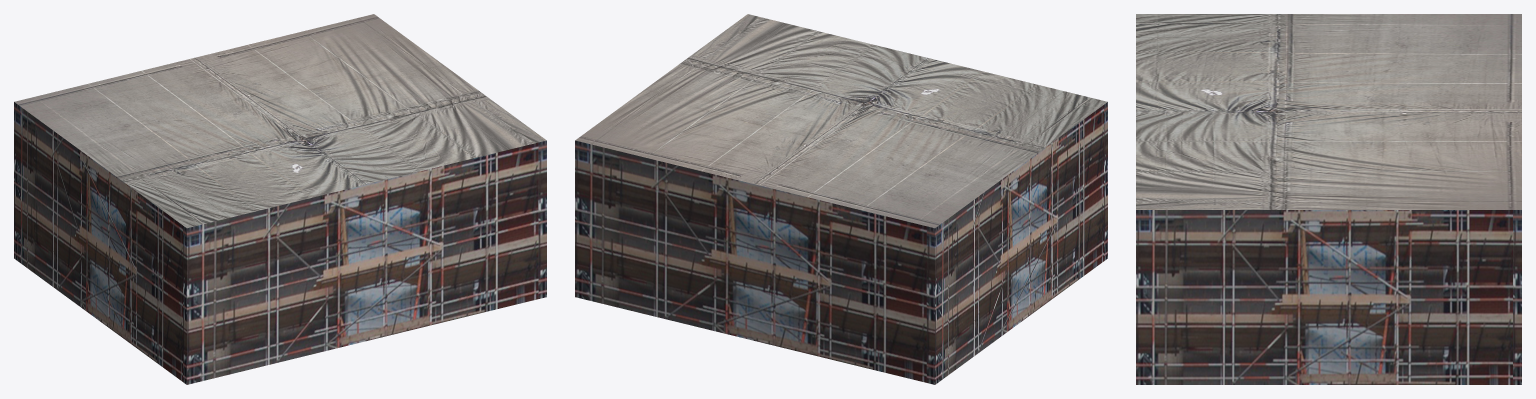
The model's file is scafolding animation 2.FBX.
3 views of the same model, side by side, from view 1: azimuth 30°, elevation 25°; view 2: azimuth 150°, elevation 25°; view 3: azimuth 270°, elevation 25° (orthographic). The views are drawn at different scales.
Parts seen in each view (by area): view 1: Box007; view 2: Box007; view 3: Box007.
Boxes of the visible parts, left/top/right/bottom form: Box007: left=14, top=14, right=546, bottom=384; Box007: left=575, top=14, right=1107, bottom=384; Box007: left=1136, top=14, right=1521, bottom=384.
Size of the model in its own units: 392 by 326 by 163.
